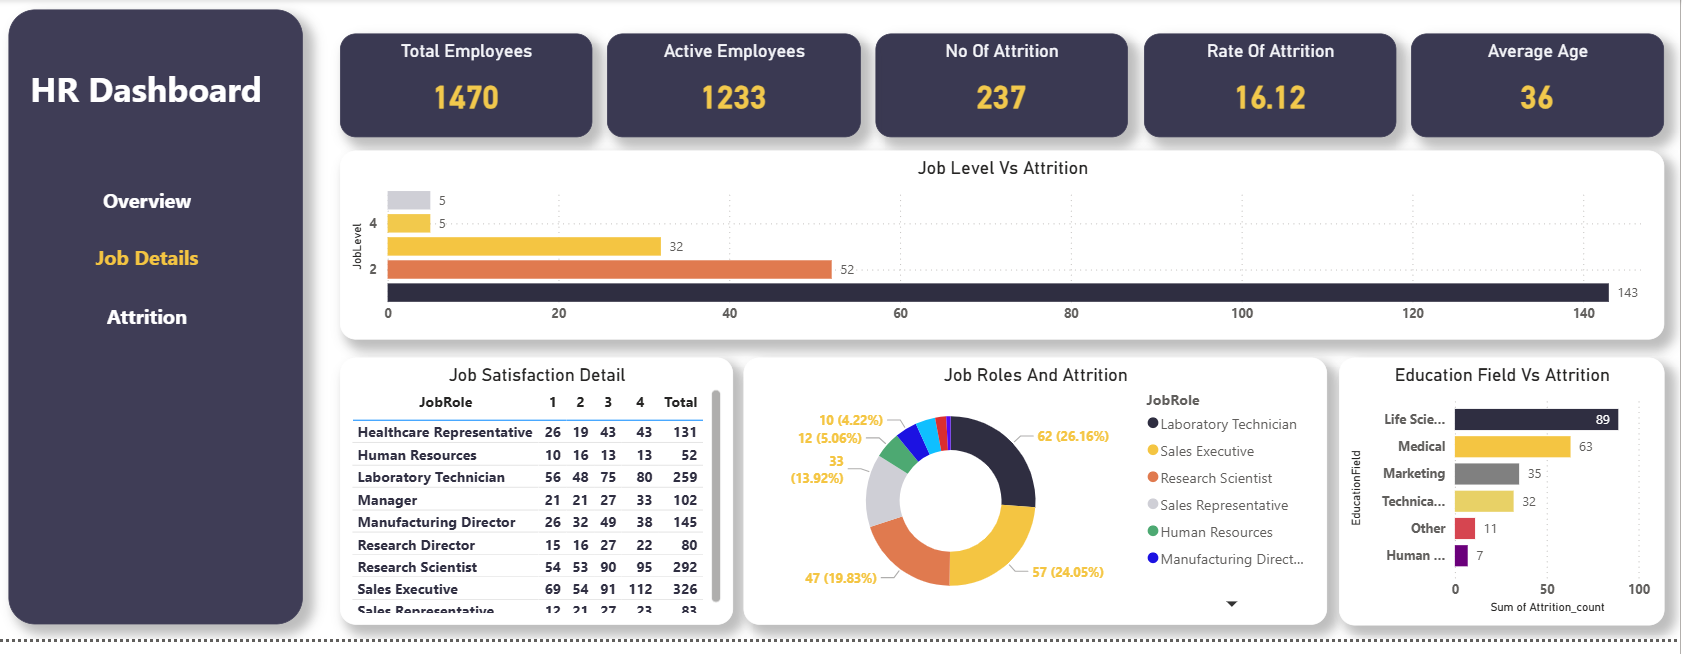

Layout of this report page (visuals, bound fields, positions):
{"tool":"powerbi","page":{"name":"Job Details","canvas":[1600,600],"ordinal":1},"visuals":[{"type":"card","title":"Total Employees","fields":{"Values":["Sum(overall_summary.Total_Employees)"]},"box":[343.3,32.4,236.3,97.1],"z":0},{"type":"card","title":"No Of Attrition","fields":{"Values":["Sum(overall_summary.Total_Attrition)"]},"box":[845.5,32.4,236.3,97.1],"z":1000},{"type":"card","title":"Rate Of Attrition","fields":{"Values":["Sum(overall_summary.Attrition_Rate_%)"]},"box":[1097.3,32.4,236.3,97.1],"z":2000},{"type":"card","title":"Active Employees","fields":{"Values":["Sum(Dept_summary.Stayed_Count)"]},"box":[593.7,32.4,237.8,97.1],"z":3000},{"type":"card","title":"Average Age","fields":{"Values":["Median(WA_Fn-UseC_-HR-Employee-Attrition.Age)"]},"box":[1348,33,237,97],"z":4000},{"type":"clusteredBarChart","title":"Job Level Vs Attrition","fields":{"Category":["Job_level_wise.JobLevel"],"Y":["Sum(Job_level_wise.Attrition_count)"]},"box":[343.3,142.1,1242.2,177.3],"z":5000},{"type":"tableEx","title":"Job Satisfaction Detail","fields":{"Values":["Job_satisfaction_detail2 (2).JobRole","Job_satisfaction_detail2 (2).1","Job_satisfaction_detail2 (2).2","Job_satisfaction_detail2 (2).3","Job_satisfaction_detail2 (2).4","Job_satisfaction_detail2 (2).Total"]},"box":[343.3,336.2,368.6,250.4],"z":6000},{"type":"donutChart","title":"Job Roles And Attrition","fields":{"Category":["Job_role_wise.JobRole"],"Y":["Sum(Job_role_wise.Attrition_count)"]},"box":[721.7,336.2,547.2,250.4],"z":7000},{"type":"clusteredBarChart","title":"Education Field Vs Attrition","fields":{"Category":["Edu_background_wise.EducationField"],"Y":["Sum(Edu_background_wise.Attrition_count)"]},"box":[1280,336,305,251],"z":8000},{"type":"shape","box":[32.4,9.8,275.7,576.8],"z":9000},{"type":"actionButton","box":[47.3,160.9,229,54.9],"z":10000},{"type":"actionButton","box":[47.1,215.7,228.6,52.9],"z":11000},{"type":"actionButton","box":[47.1,264.3,228.6,64.3],"z":12000},{"type":"textbox","box":[47.1,55.7,228.6,64.3],"z":13000}]}

Visuals, with their boxes on the page's 1600x600 design canvas (x1, y1, x2, y2). These are canvas units, not pixel positions in the 1682x654 screenshot, which may show the page scaled, cropped or inside an application window:
"Total Employees" card: bbox=(343, 32, 580, 130)
"No Of Attrition" card: bbox=(846, 32, 1082, 130)
"Rate Of Attrition" card: bbox=(1097, 32, 1334, 130)
"Active Employees" card: bbox=(594, 32, 832, 130)
"Average Age" card: bbox=(1348, 33, 1585, 130)
"Job Level Vs Attrition" clusteredBarChart: bbox=(343, 142, 1586, 319)
"Job Satisfaction Detail" tableEx: bbox=(343, 336, 712, 587)
"Job Roles And Attrition" donutChart: bbox=(722, 336, 1269, 587)
"Education Field Vs Attrition" clusteredBarChart: bbox=(1280, 336, 1585, 587)
shape: bbox=(32, 10, 308, 587)
actionButton: bbox=(47, 161, 276, 216)
actionButton: bbox=(47, 216, 276, 269)
actionButton: bbox=(47, 264, 276, 329)
textbox: bbox=(47, 56, 276, 120)
